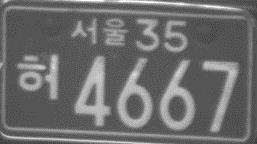3: (134, 15, 161, 53)
4: (72, 53, 111, 128)
5: (163, 18, 188, 52)
6: (156, 57, 197, 132), (116, 55, 154, 130)
7: (201, 59, 242, 134)
서울_O: (70, 15, 129, 48)
허: (13, 50, 61, 103)
